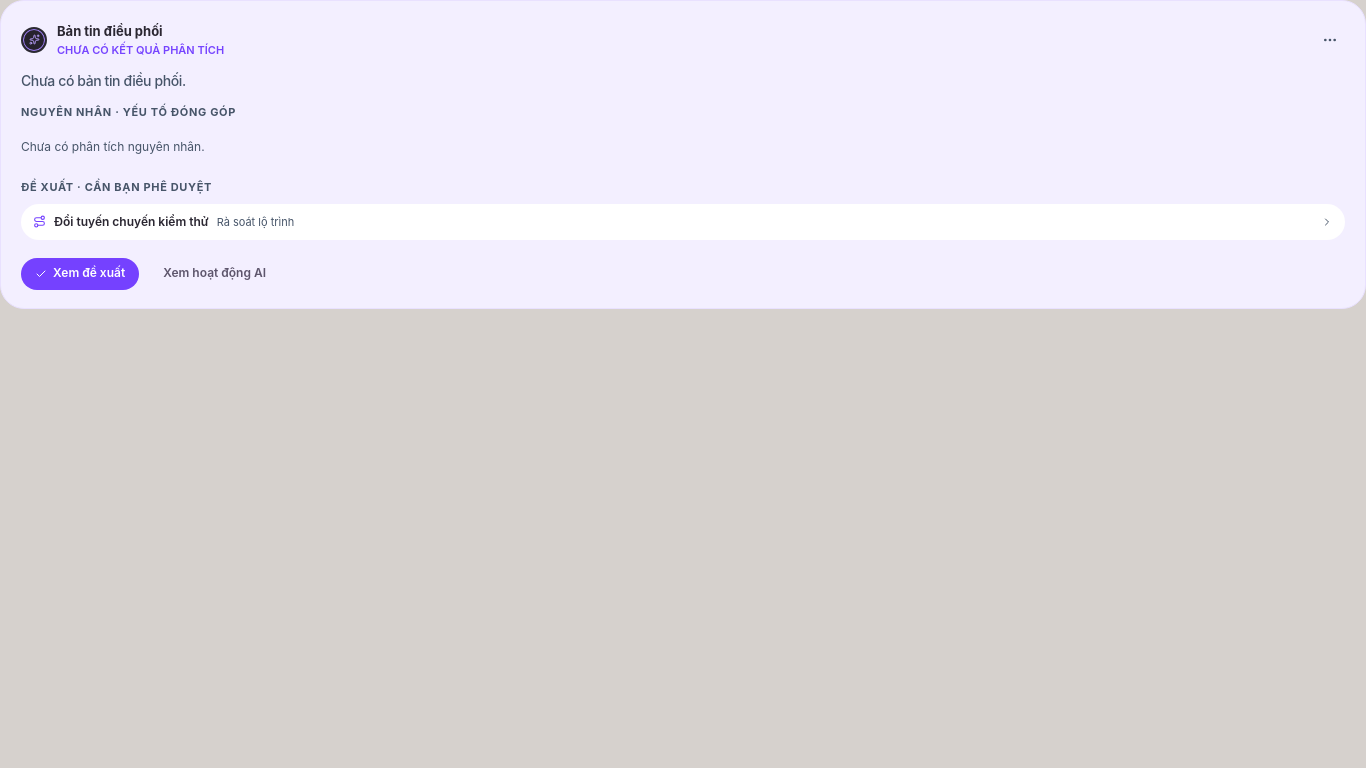
OperationsBrief › does not simulate approval when no backend action is provided
This screenshot has width=1366, height=768.
Click the button "Đổi tuyến chuyến kiểm thử Rà soát lộ trình" at (131,221), box [21, 204, 1345, 240]
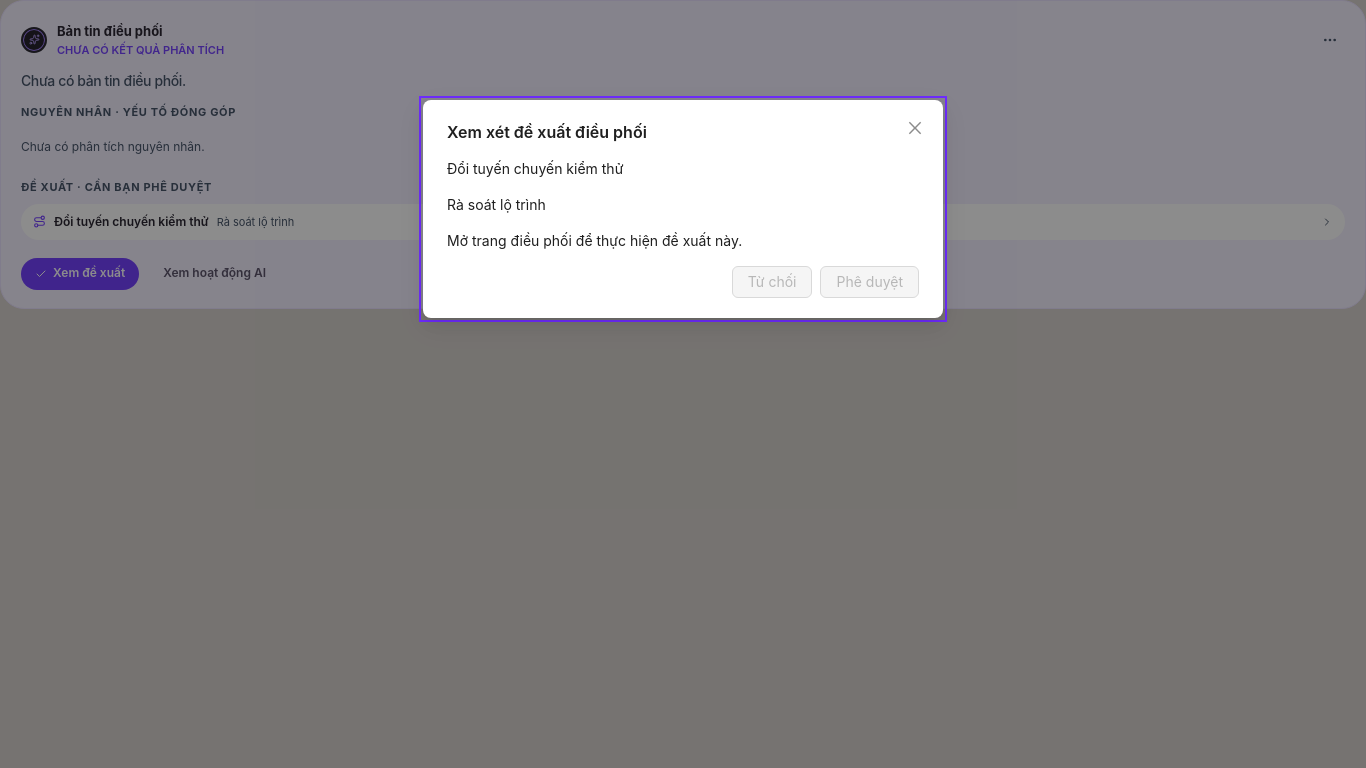
Expected: the button "Phê duyệt" is disabled, [820, 266, 919, 298]
Expected: the button "Từ chối" is disabled, [732, 266, 812, 298]
